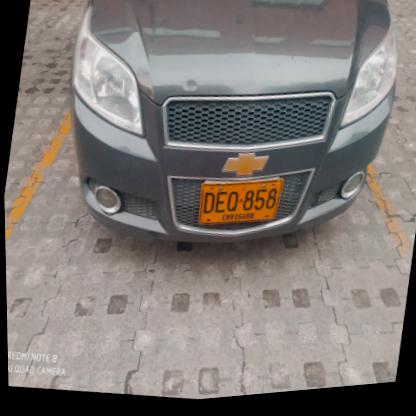placa: (190, 169, 284, 243)
